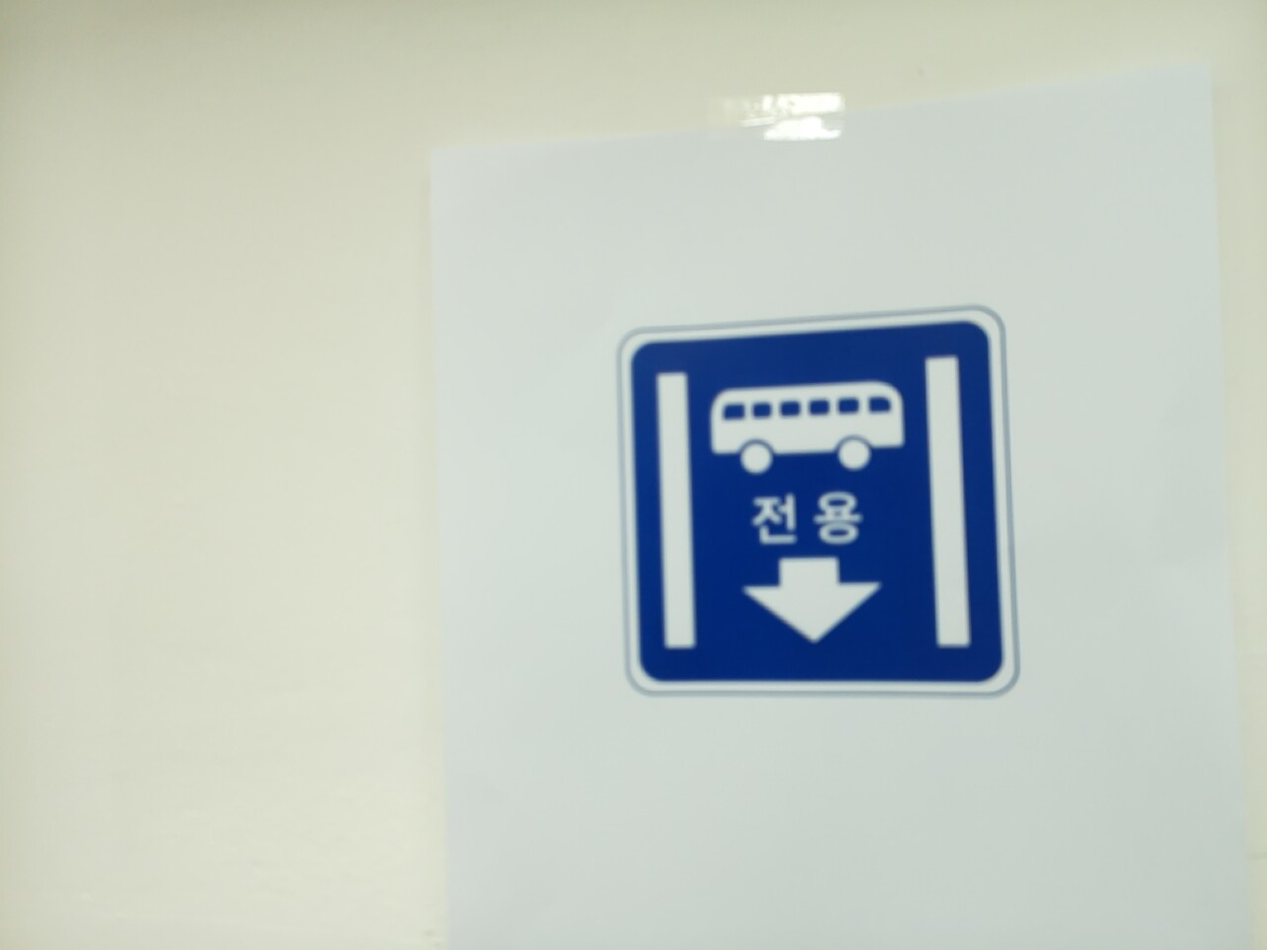bus_only_lane: (620, 310, 1014, 694)
